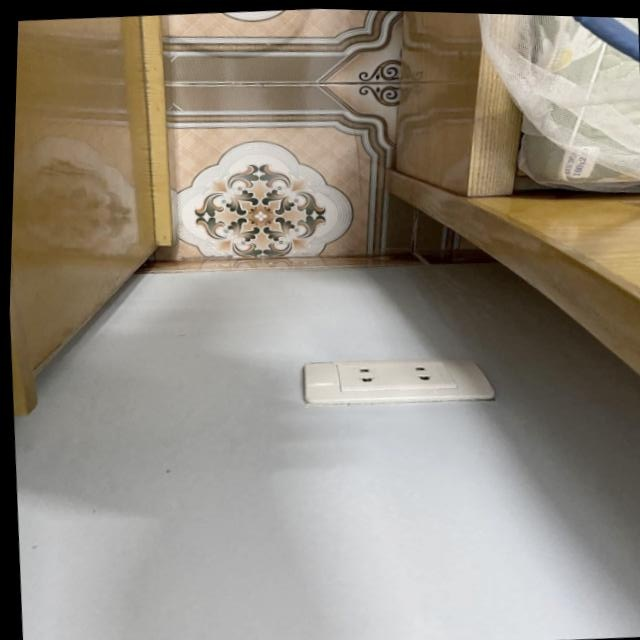outlet: (299, 350, 496, 414)
